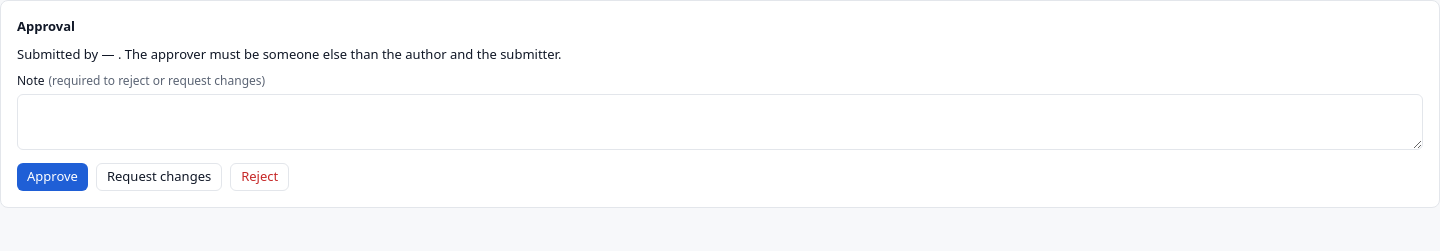
Scenario: ThreatModelView › requires a note to request changes
The width and height of the screenshot is (1440, 251).
Later steps or results of the test are not shown.
Step 1. Click the button "Request changes" → point(159, 177), box [96,163,222,191]
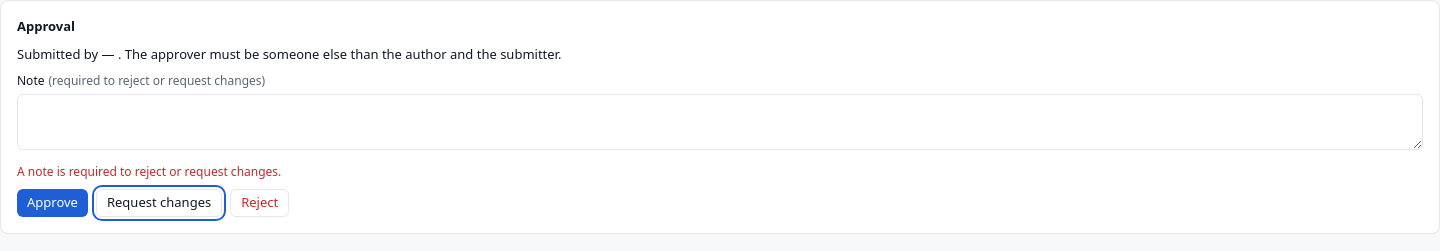
expect the message shows "note is required": met, box [17,163,281,180]
